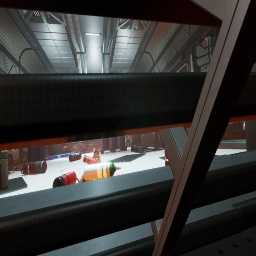0: (84, 162, 122, 180)
EmergencyPhone ,: (48, 145, 49, 145)
FireExtinguisher ]: (52, 171, 80, 188), (83, 155, 100, 164), (146, 144, 148, 148), (132, 145, 133, 146), (134, 146, 134, 146)
FirstAidBox ,: (164, 150, 170, 166), (93, 148, 99, 155), (98, 148, 102, 152)
NitrogenTank ,: (21, 161, 47, 175), (69, 152, 82, 162), (142, 142, 146, 145)
